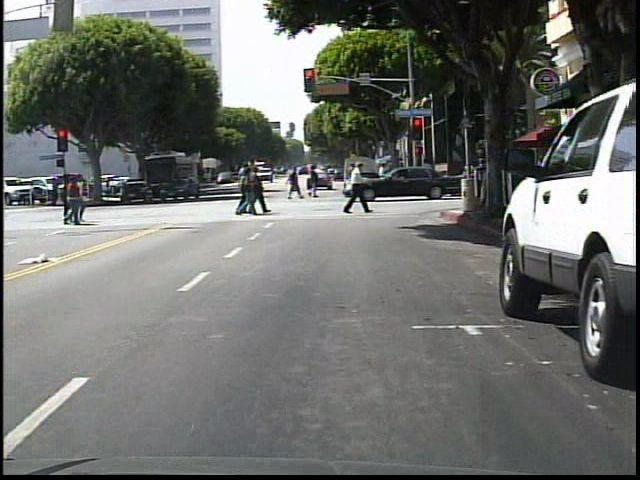person: (344, 158, 375, 220)
